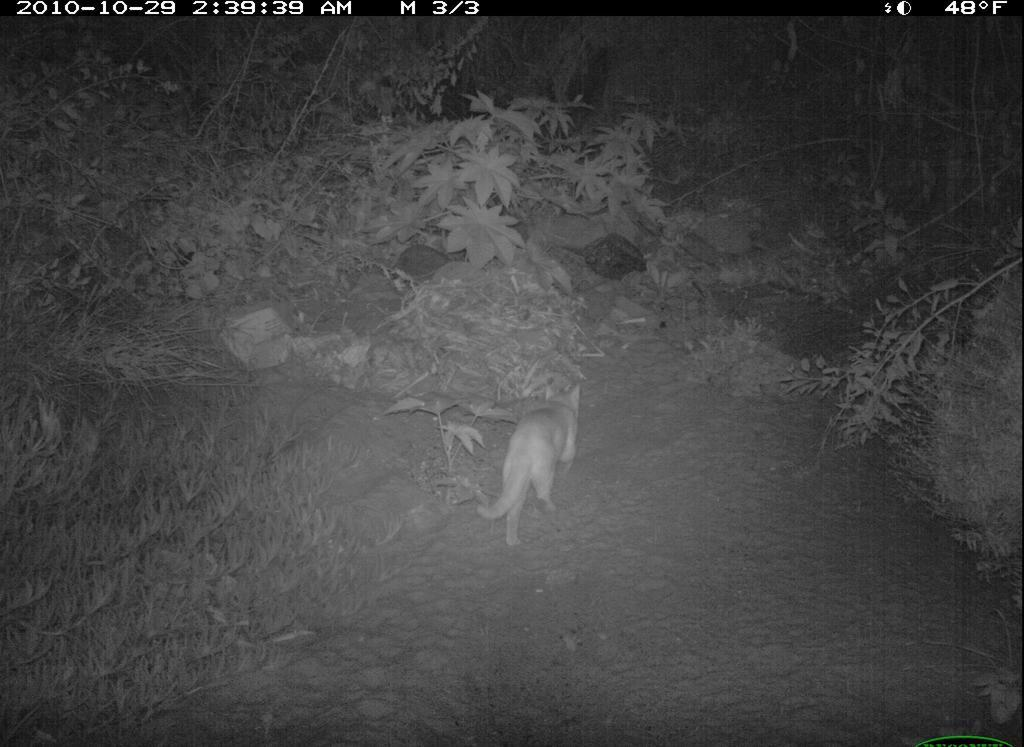cat: (474, 381, 584, 549)
